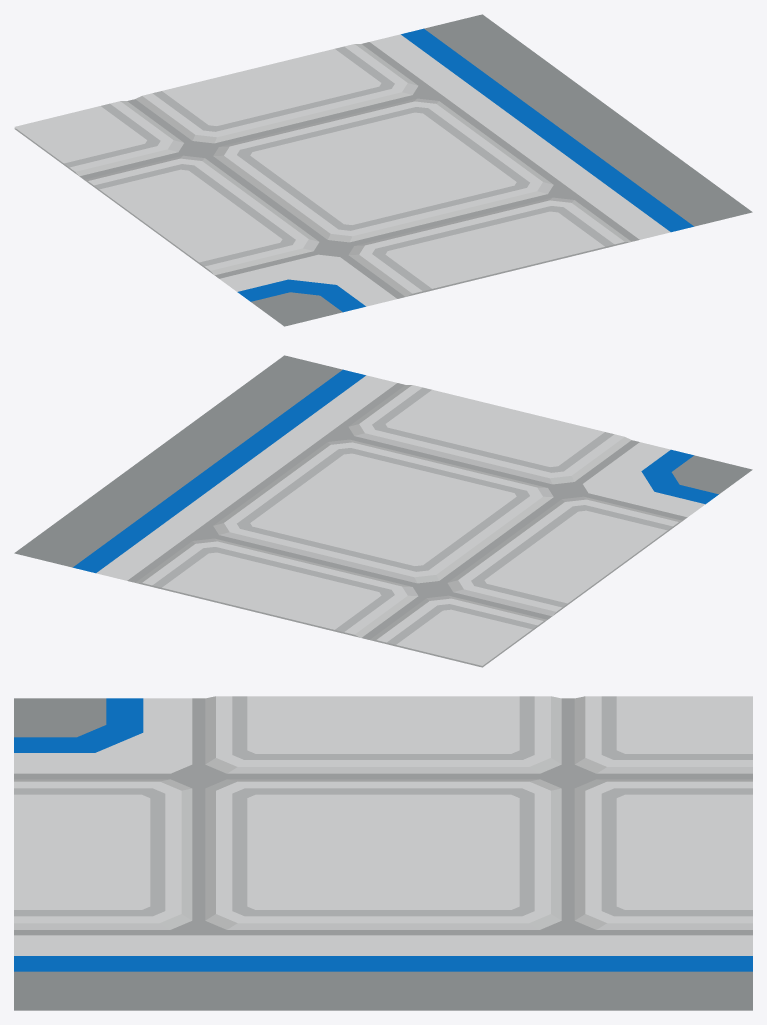
File: Floor_type_A_037.glb
3 views of the same model, one above another, from view 1: azimuth 30°, elevation 25°; view 2: azimuth 150°, elevation 25°; view 3: azimuth 270°, elevation 25° (orthographic). The views are drawn at different scales.
Parts seen in each view (by area): view 1: Floor_type_A_037; view 2: Floor_type_A_037; view 3: Floor_type_A_037.
Boxes of the visible parts, left/top/right/bottom form: Floor_type_A_037: left=14, top=14, right=752, bottom=326; Floor_type_A_037: left=14, top=355, right=752, bottom=667; Floor_type_A_037: left=14, top=696, right=752, bottom=1010.
Bounding box in the file's own units: 4 × 0.0134 × 4.
Materials: 2 (2 with a texture image).
